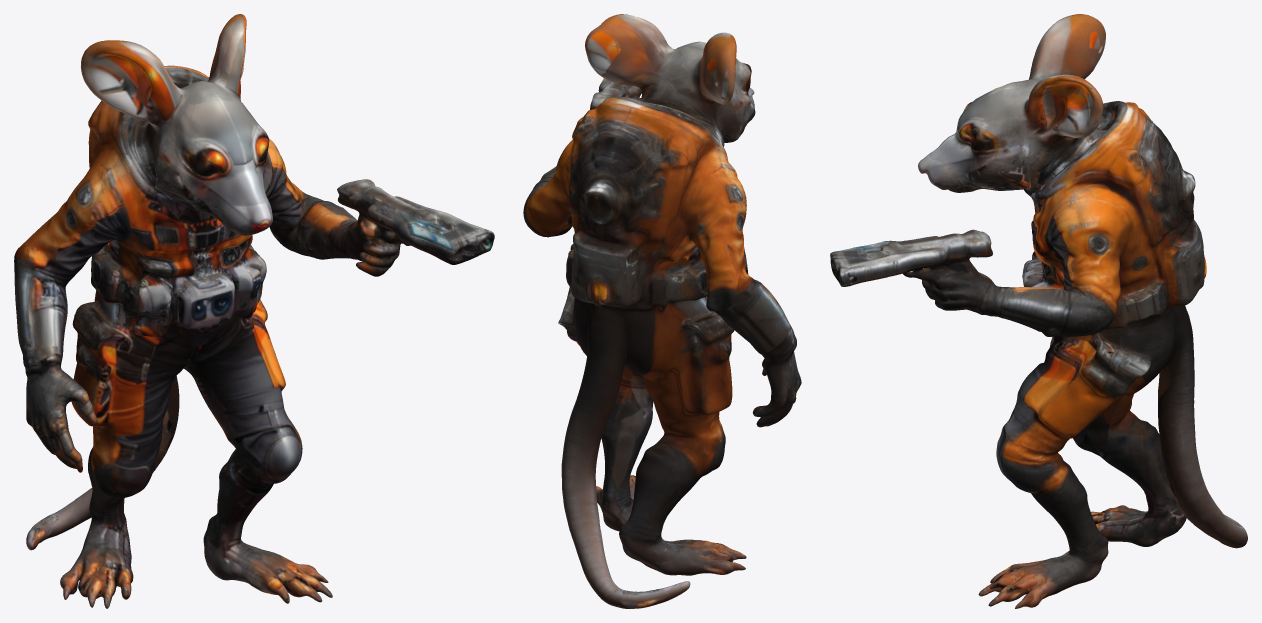
The model's file is glitchRat.glb.
3 renders of one model, left to right at view 1: azimuth 30°, elevation 25°; view 2: azimuth 150°, elevation 25°; view 3: azimuth 270°, elevation 25°, orthographic. The views are drawn at different scales.
Size of the model in its own units: 1.22 by 2 by 1.47.
Materials: 1 (1 with a texture image).
